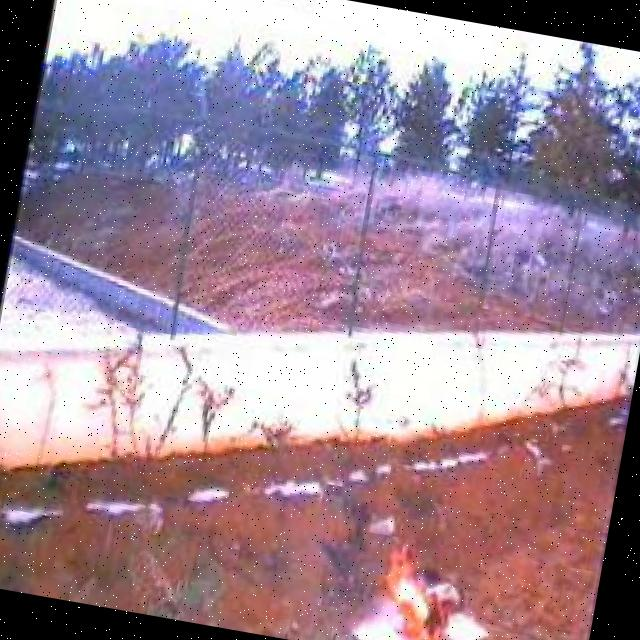fire: (363, 538, 484, 640)
